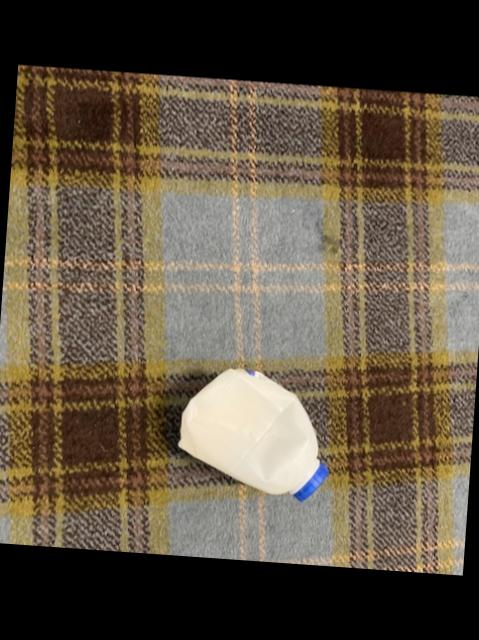plastic: (175, 367, 324, 499)
